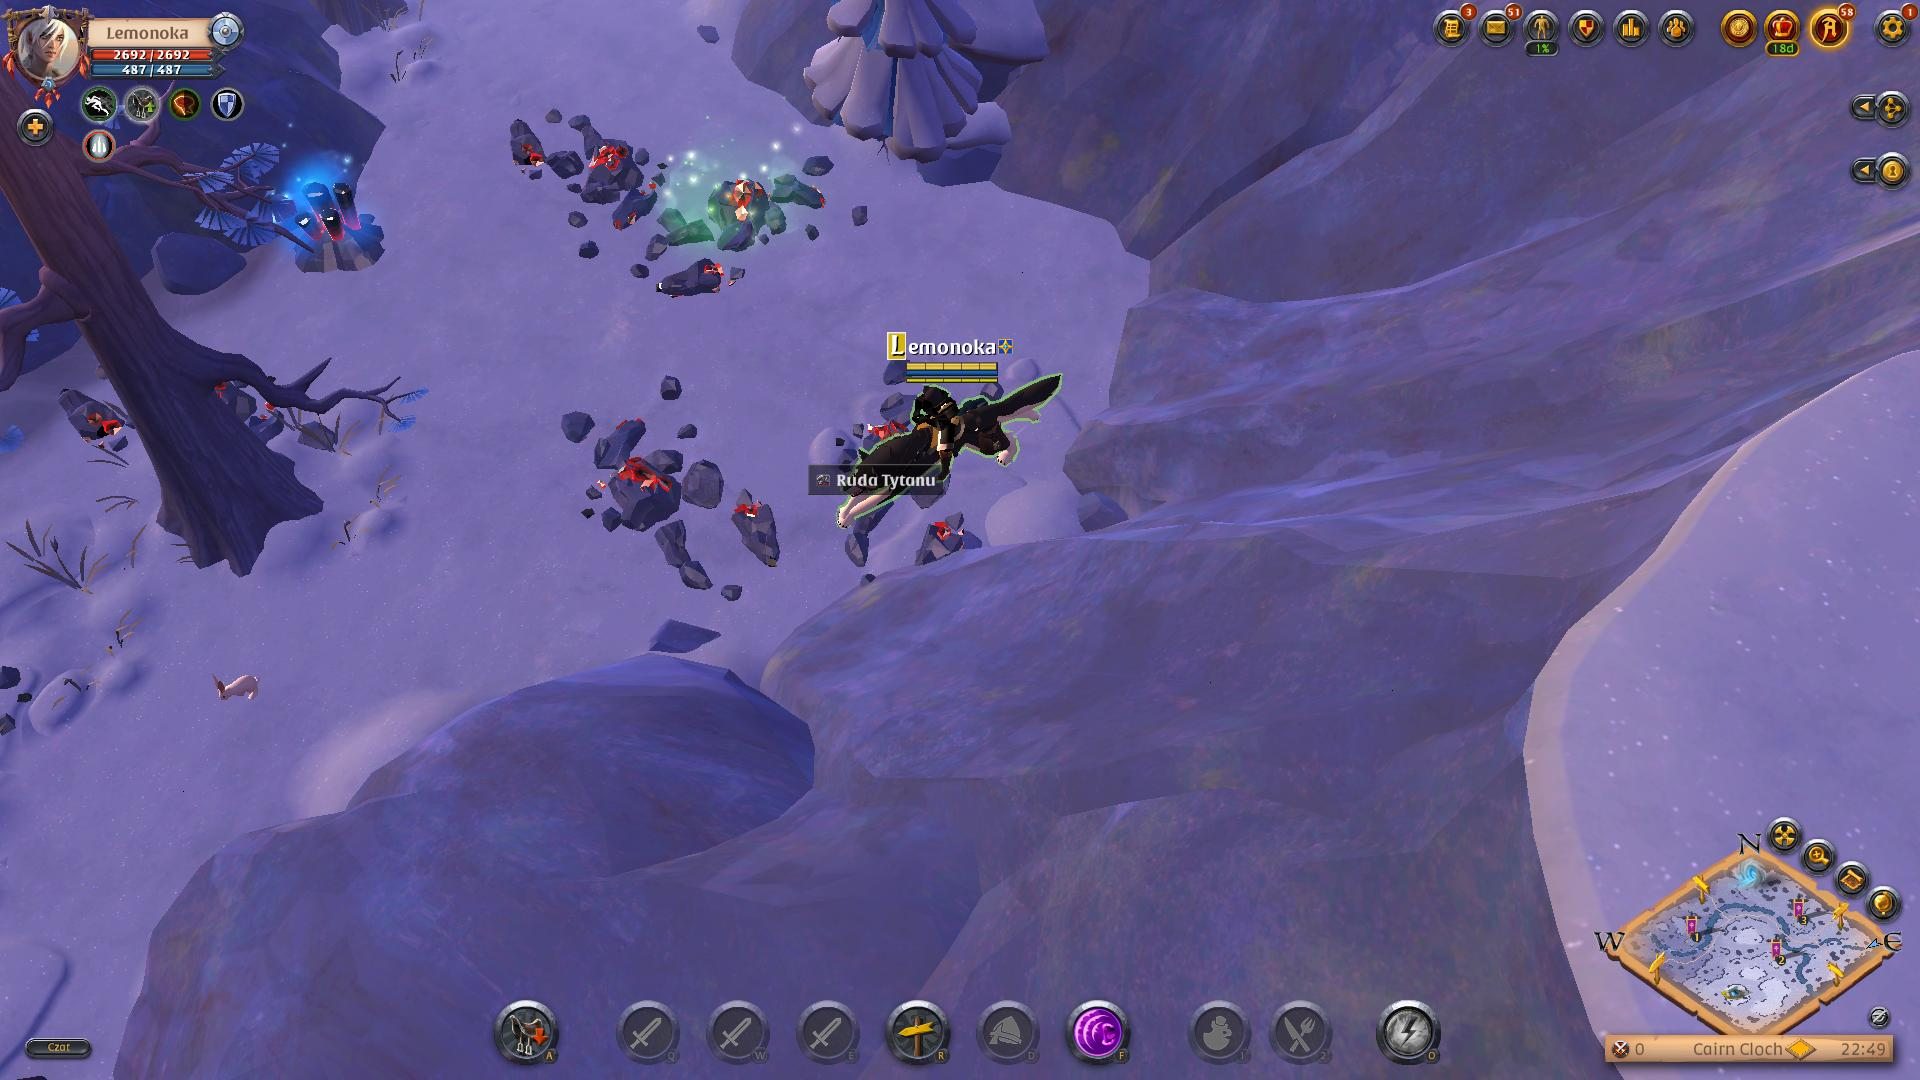ore tier 5: (285, 173, 386, 277)
